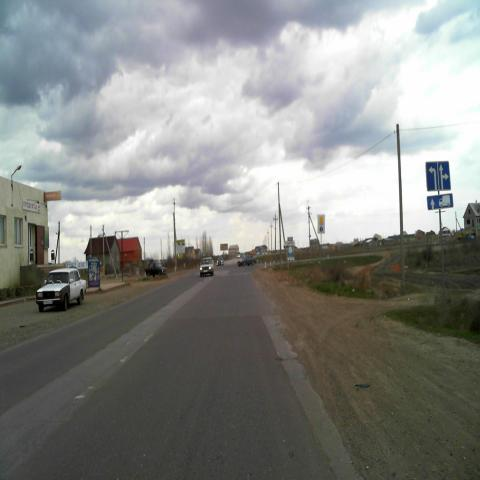4_8_2: (317, 214, 324, 233)
6_15_1: (427, 192, 453, 210)
